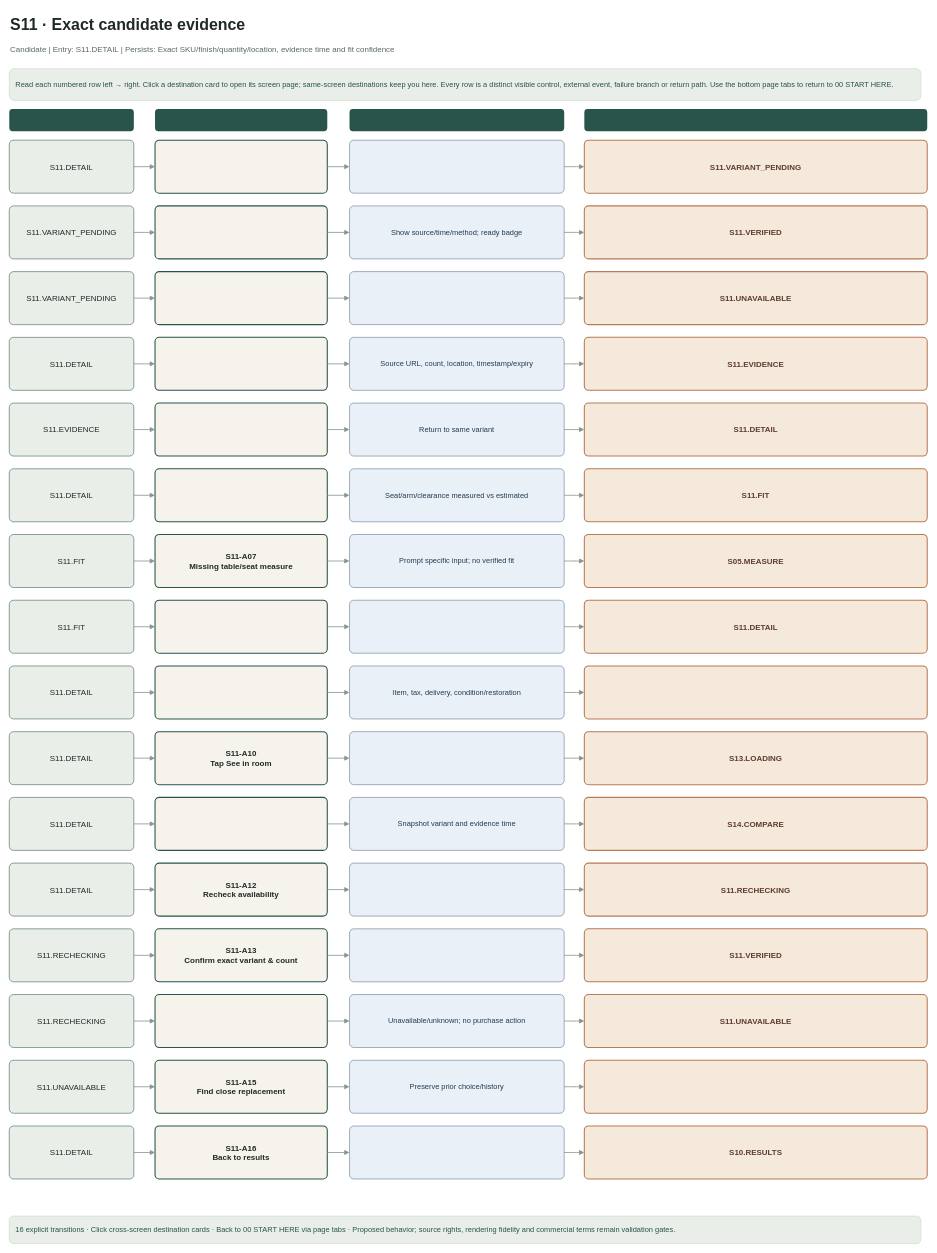
The diagram is 937 pixels wide and 1253 high, and some of its shapes have lost their labels. The shapes that lost their labels are listed below. From the top down, each one's centre as x and y in pixels, then its label:
At pixel 71 120: "FROM STATE".
At pixel 241 120: "CONTROL / EVENT".
At pixel 456 120: "GUARD + VISIBLE FEEDBACK".
At pixel 755 120: "TO STATE / DESTINATION".
At pixel 241 166: "S11-A01 Choose finish/size variant".
At pixel 456 166: "Clear prior stock/price and reverify".
At pixel 241 232: "S11-A02 Recheck succeeds exact six".
At pixel 241 298: "S11-A03 Variant wrong or count short".
At pixel 456 298: "Remove ready badge and offer substitute".
At pixel 241 364: "S11-A04 Open stock evidence".
At pixel 241 429: "S11-A05 Close or back".
At pixel 241 495: "S11-A06 Inspect fit dimensions".
At pixel 241 626: "S11-A08 Back".
At pixel 456 626: "Retain evidence view".
At pixel 241 692: "S11-A09 Inspect all-in cost".
At pixel 756 692: "S16.BUDGET".
At pixel 456 758: "Bind exact variant/source photo".
At pixel 241 824: "S11-A11 Add to compare or save".
At pixel 456 889: "Pending state, stale badge meanwhile".
At pixel 456 955: "Update time/evidence".
At pixel 241 1021: "S11-A14 Count drops, stale or error".
At pixel 756 1086: "S18.CHANGE".
At pixel 456 1152: "Preserve selected filters/scroll".
